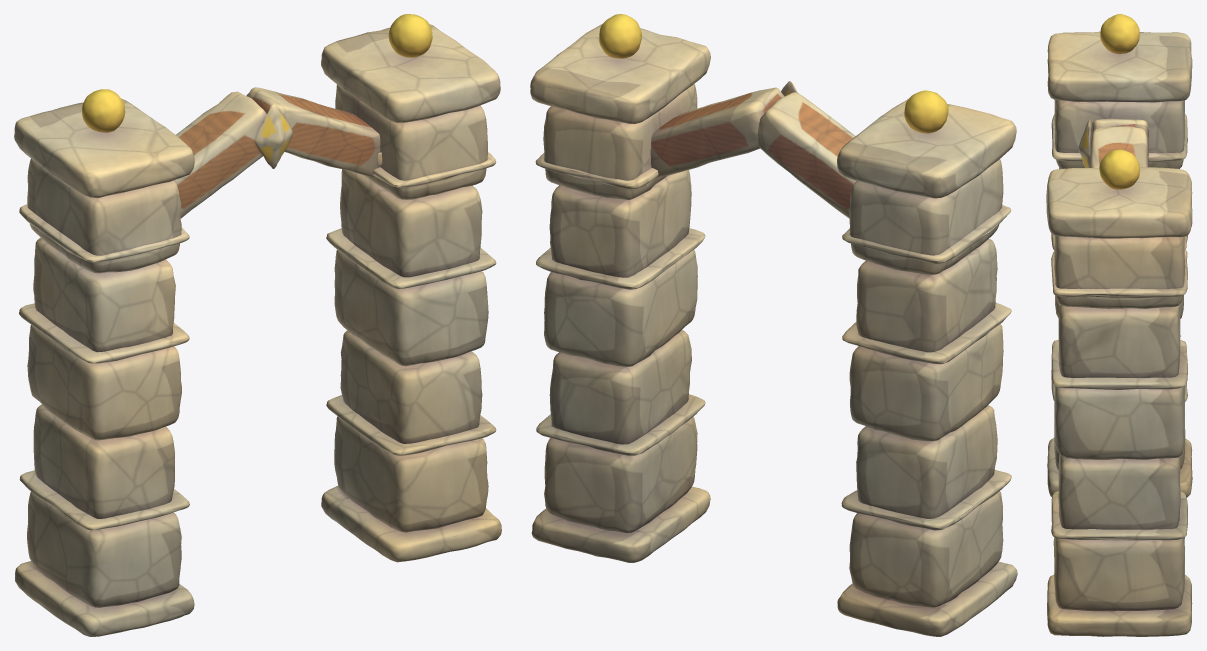
File: G02_GoalArch.fbx
3 views of the same model, side by side, from view 1: azimuth 30°, elevation 25°; view 2: azimuth 150°, elevation 25°; view 3: azimuth 270°, elevation 25° (orthographic). The views are drawn at different scales.
Visible parts, largest first — view 1: G02_GoalArch; view 2: G02_GoalArch; view 3: G02_GoalArch.
Part boxes in pixels (box(x1,y1,x2,y2)): G02_GoalArch: box(14, 14, 501, 636); G02_GoalArch: box(530, 14, 1017, 636); G02_GoalArch: box(1046, 14, 1192, 636).
Size of the model in its own units: 3 by 3.5 by 1.
